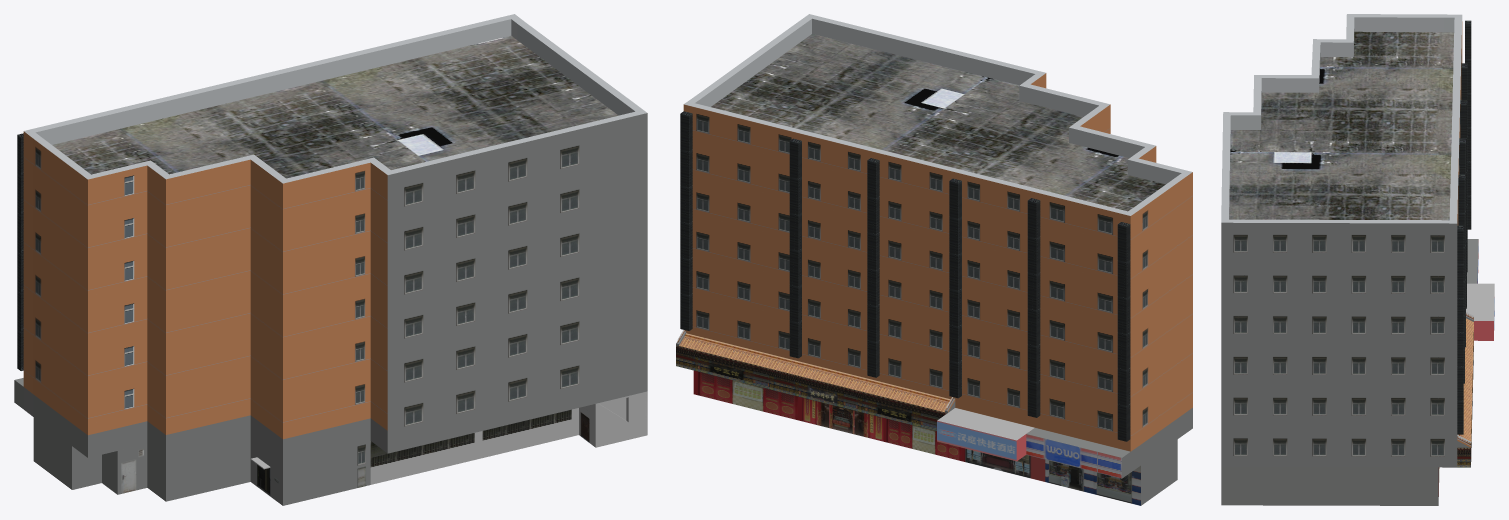
3 views of the same model, side by side, from view 1: azimuth 30°, elevation 25°; view 2: azimuth 150°, elevation 25°; view 3: azimuth 270°, elevation 25° (orthographic). The views are drawn at different scales.
Visible parts, largest first — view 1: jz16; view 2: jz16; view 3: jz16.
Boxes of the visible parts, bbox=[...] form: jz16: bbox=[14, 14, 647, 505]; jz16: bbox=[676, 14, 1192, 505]; jz16: bbox=[1221, 14, 1494, 505].
Size of the model in its own units: 3500 by 2200 by 1931.
Materials: 27 (27 with a texture image).
